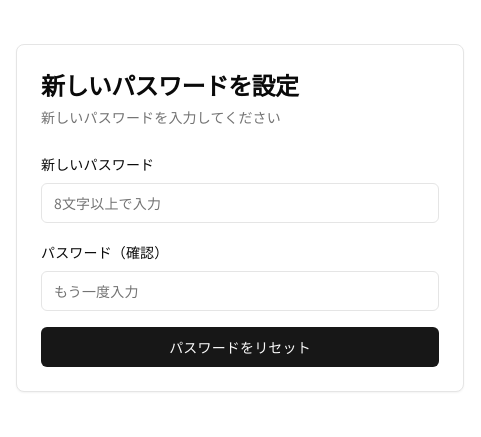
Scenario: ResetPasswordPage › should validate password length
Type "short" into the password field labelled "新しいパスワード" at (240, 203), box [41,183,439,223]
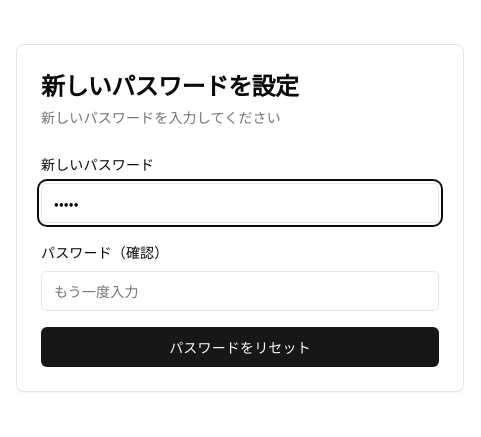
Click the button "パスワードをリセット" at (240, 347), box [41,327,439,367]
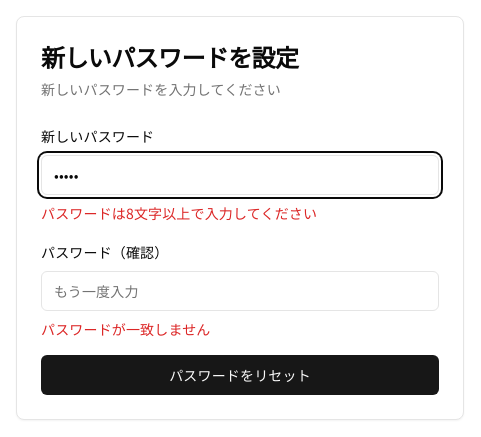
expect the text "パスワードは8文字以上で入力してください" is shown: met, box [41,203,317,223]
